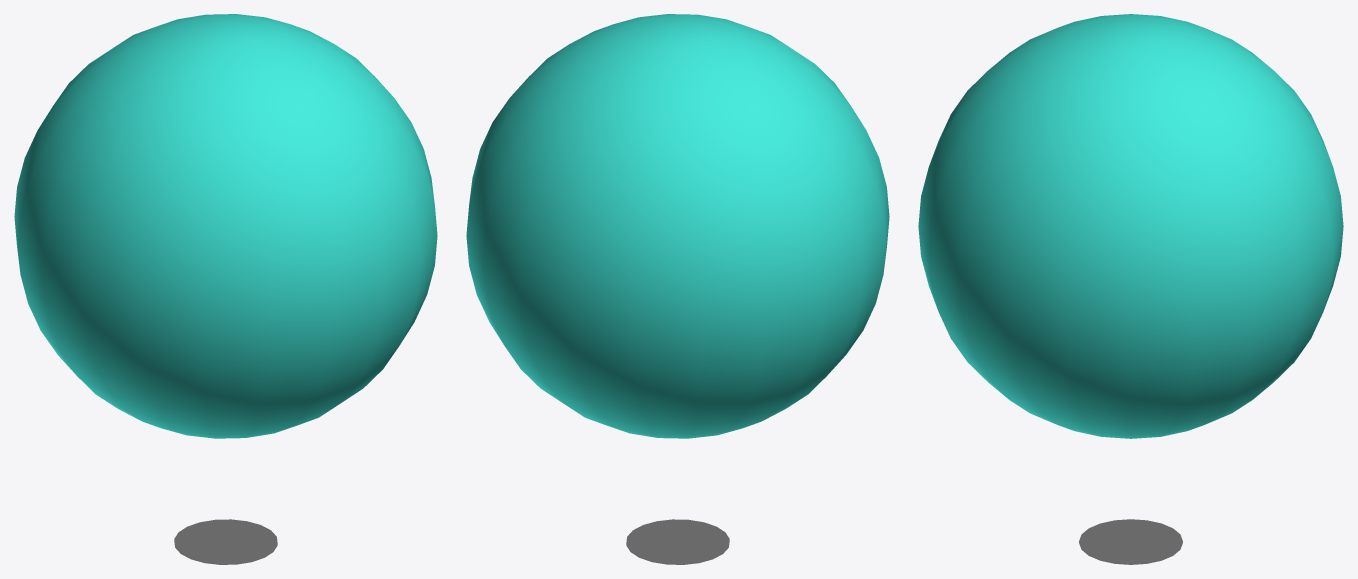
Rendered from Healer.fbx.
The picture shows the model from 3 angles, left to right: view 1: azimuth 30°, elevation 25°; view 2: azimuth 150°, elevation 25°; view 3: azimuth 270°, elevation 25°; orthographic projection.
Parts seen in each view (by area): view 1: pSphere1, pCylinder1; view 2: pSphere1, pCylinder1; view 3: pSphere1, pCylinder1.
Boxes of the visible parts, left/top/right/bottom form: pSphere1: left=14, top=14, right=437, bottom=438; pCylinder1: left=174, top=519, right=277, bottom=564; pSphere1: left=466, top=14, right=889, bottom=438; pCylinder1: left=626, top=519, right=729, bottom=564; pSphere1: left=918, top=14, right=1343, bottom=438; pCylinder1: left=1079, top=519, right=1182, bottom=564.
Bounding box in the file's own units: 2.43 × 3.22 × 2.43.
